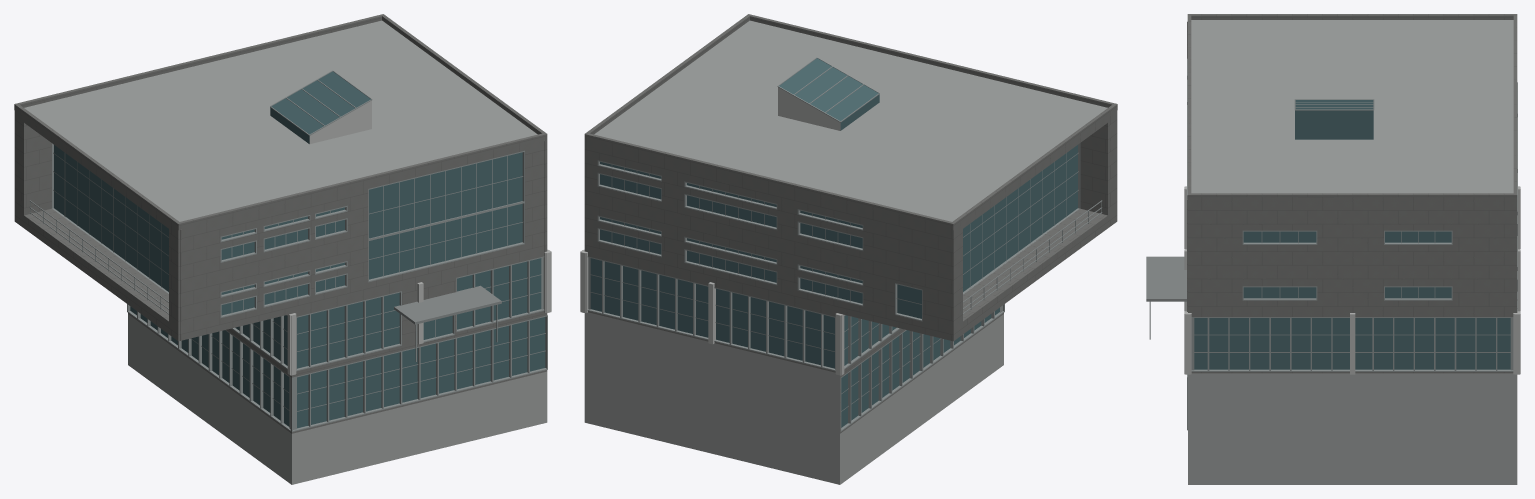
3 views of the same model, side by side, from view 1: azimuth 30°, elevation 25°; view 2: azimuth 150°, elevation 25°; view 3: azimuth 270°, elevation 25° (orthographic).
Parts seen in each view (by area): view 1: haesongLawLibrary__rough, haesongLawLibrary__glass, haesongLawLibrary__stone, haesongLawLibrary__frame, haesongLawLibrary__cream, haesongLawLibrary__roof; view 2: haesongLawLibrary__rough, haesongLawLibrary__stone, haesongLawLibrary__glass, haesongLawLibrary__frame, haesongLawLibrary__cream; view 3: haesongLawLibrary__rough, haesongLawLibrary__stone, haesongLawLibrary__glass, haesongLawLibrary__frame, haesongLawLibrary__cream, haesongLawLibrary__roof.
Part boxes in pixels (left/top/right/bottom): haesongLawLibrary__rough: left=24, top=20, right=547, bottom=484; haesongLawLibrary__glass: left=54, top=71, right=545, bottom=428; haesongLawLibrary__stone: left=14, top=14, right=547, bottom=433; haesongLawLibrary__frame: left=29, top=70, right=547, bottom=431; haesongLawLibrary__cream: left=287, top=100, right=551, bottom=375; haesongLawLibrary__roof: left=394, top=285, right=501, bottom=324; haesongLawLibrary__rough: left=584, top=20, right=1107, bottom=484; haesongLawLibrary__stone: left=584, top=14, right=1117, bottom=433; haesongLawLibrary__glass: left=590, top=58, right=1077, bottom=427; haesongLawLibrary__frame: left=587, top=57, right=1102, bottom=431; haesongLawLibrary__cream: left=580, top=87, right=844, bottom=375; haesongLawLibrary__rough: left=1188, top=20, right=1517, bottom=484; haesongLawLibrary__stone: left=1187, top=14, right=1517, bottom=373; haesongLawLibrary__glass: left=1194, top=100, right=1510, bottom=369; haesongLawLibrary__frame: left=1149, top=58, right=1517, bottom=430; haesongLawLibrary__cream: left=1184, top=186, right=1520, bottom=374; haesongLawLibrary__roof: left=1146, top=256, right=1186, bottom=301.
Bounding box in the file's own units: 28.54 × 23.03 × 24.75.
Materials: 6 (1 with a texture image).
